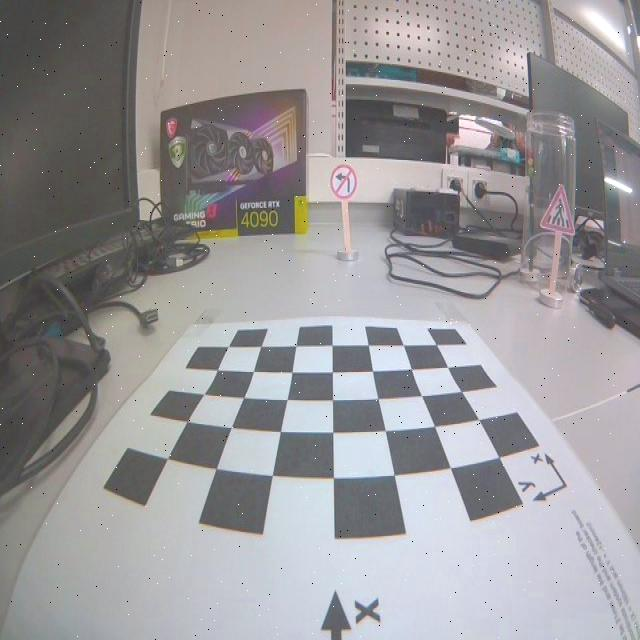Dilarang Belok Kiri: (331, 165, 357, 198)
